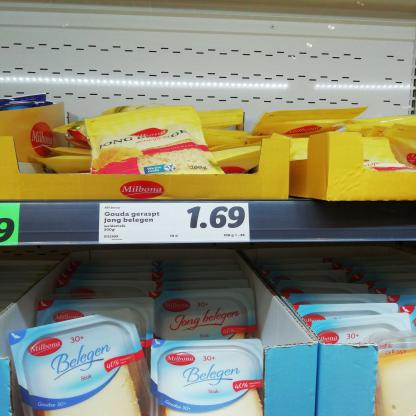prtg: (100, 205, 250, 245)
